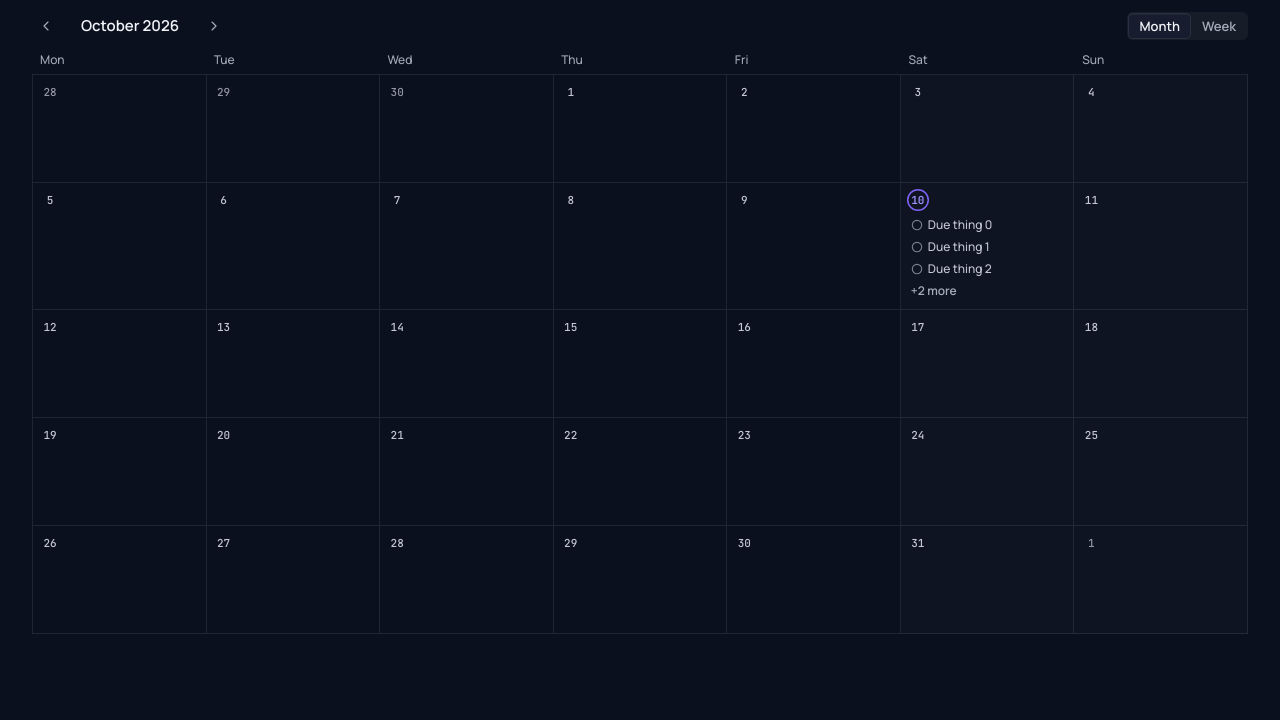
Test: CalendarView › '+N more' opens a list of everything on that day
Click the button with aria-label "Show all 5 items on".
click(934, 291)  # box x1=907 y1=281 x2=961 y2=301
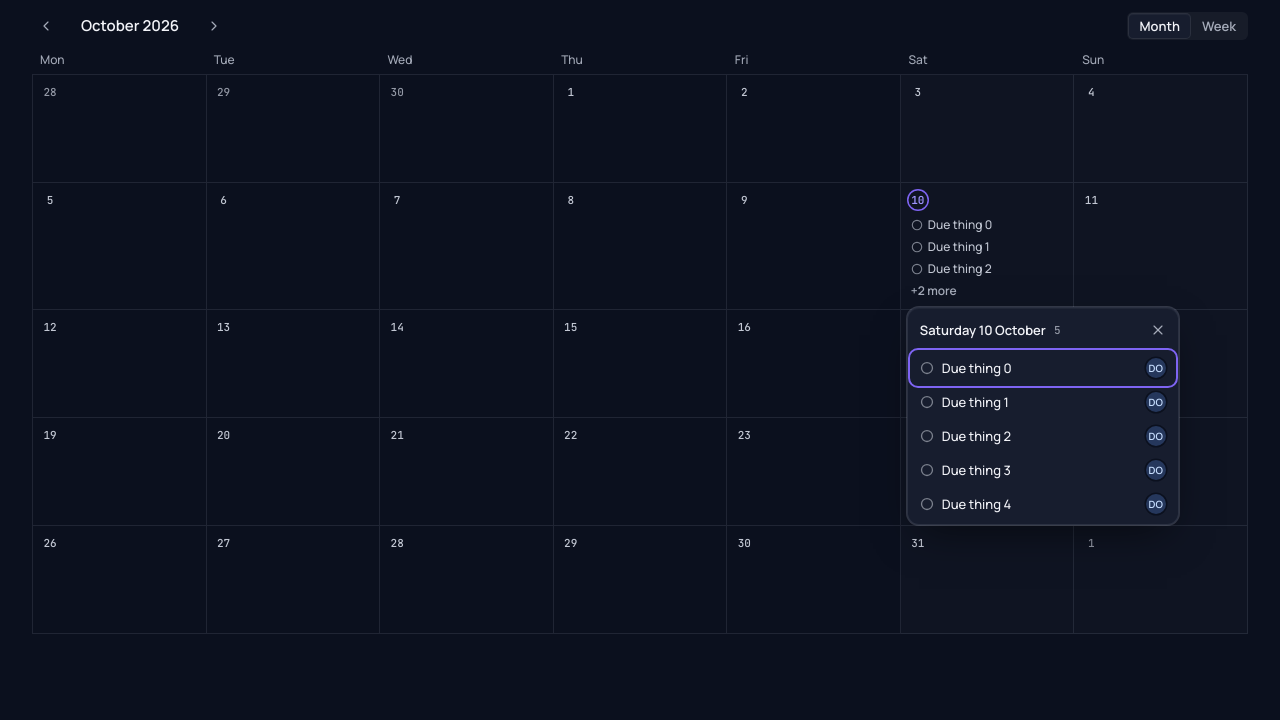
Result: the number of buttons "Due thing 0 DO" is 5
Click the button "Due thing 4 DO".
click(977, 504)  # box x1=912 y1=488 x2=1174 y2=520
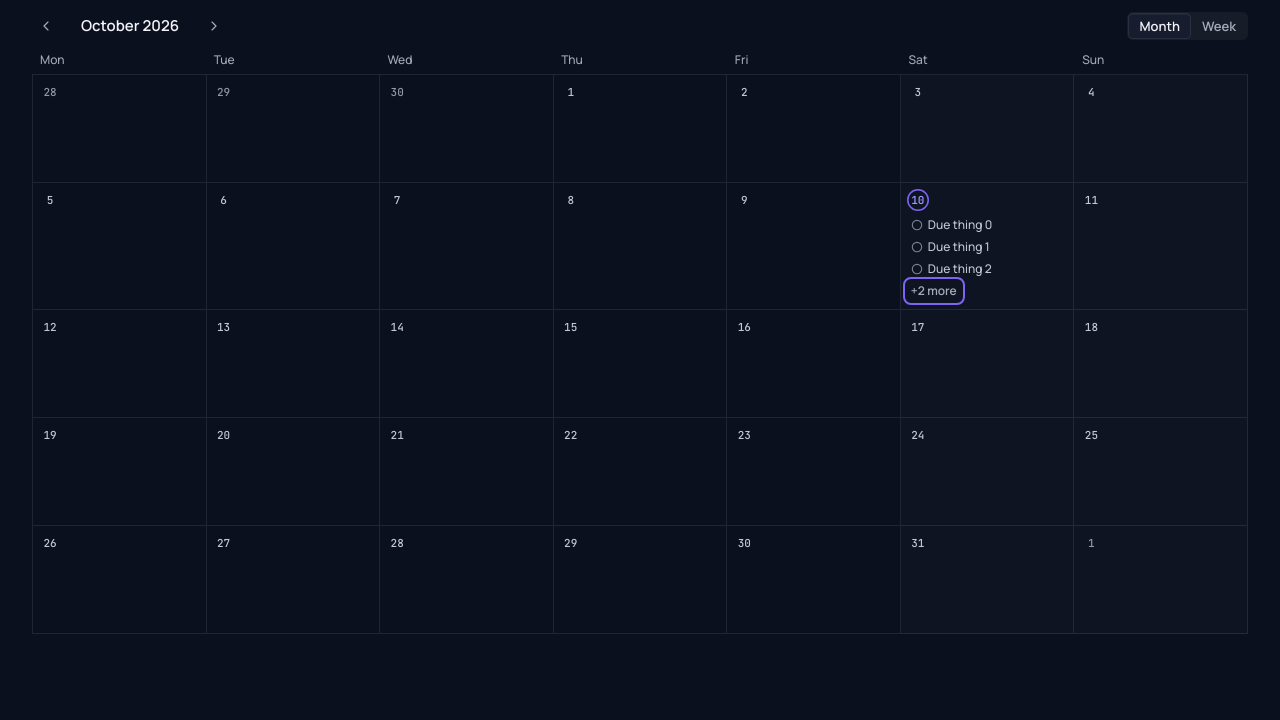
Result: the dialog is gone
